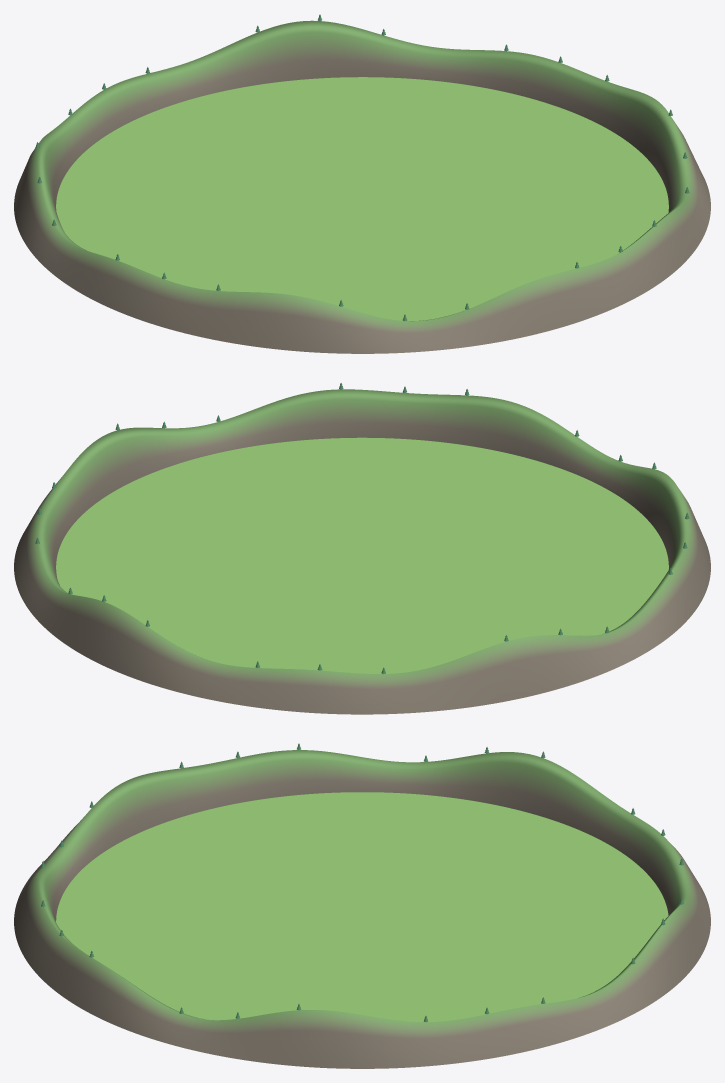
Rendered from world-border.glb.
3 views of the same model, one above another, from view 1: azimuth 30°, elevation 25°; view 2: azimuth 150°, elevation 25°; view 3: azimuth 270°, elevation 25° (orthographic).
Visible parts, largest first — view 1: InnerFloor, ContinuousCliff (×8); view 2: InnerFloor, ContinuousCliff (×8); view 3: InnerFloor, ContinuousCliff (×8).
Part boxes in pixels (x1,y1,x2,y2): InnerFloor: (56, 77, 668, 320); ContinuousCliff (×8): (14, 20, 710, 353); InnerFloor: (56, 437, 668, 673); ContinuousCliff (×8): (14, 389, 710, 714); InnerFloor: (56, 792, 668, 1021); ContinuousCliff (×8): (14, 750, 710, 1068).
Bounding box in the file's own units: 728 × 65.71 × 728.
